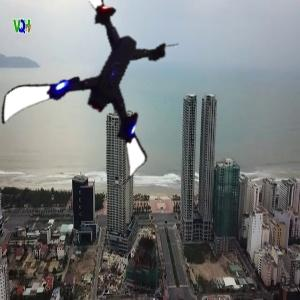drone: (17, 6, 192, 181)
